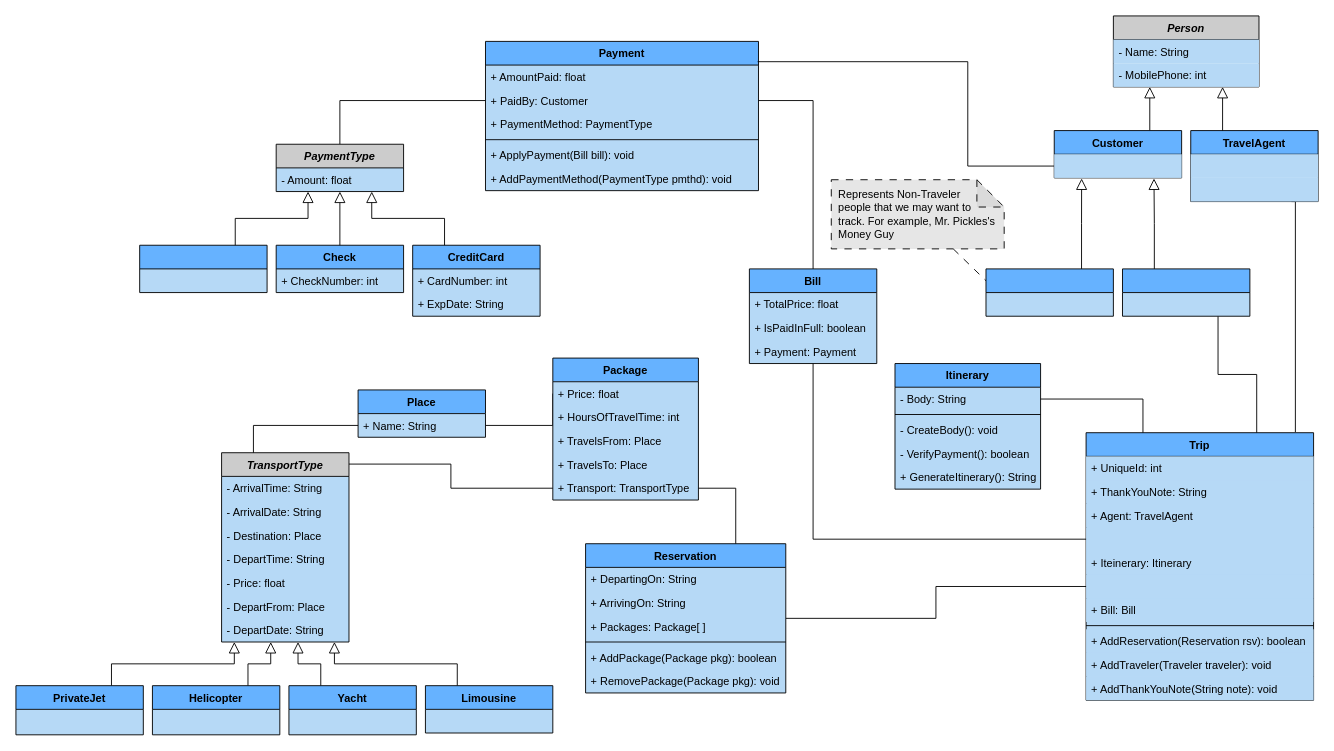
Image size: 1334x751. Some labels were removed from this diagram. The centre of each missing label's shape, as x and y in pixels:
+ Reservations: Reservation[ ]: point 1199,586
+ Travelers: Traveler[ ]: point 1199,539
+ Username: String: point 1254,165
- FavoriteDrink: String: point 1117,165
- Password: String: point 1254,189
Cash: point 203,268
NonTraveller: point 1049,292
Traveller: point 1186,292
